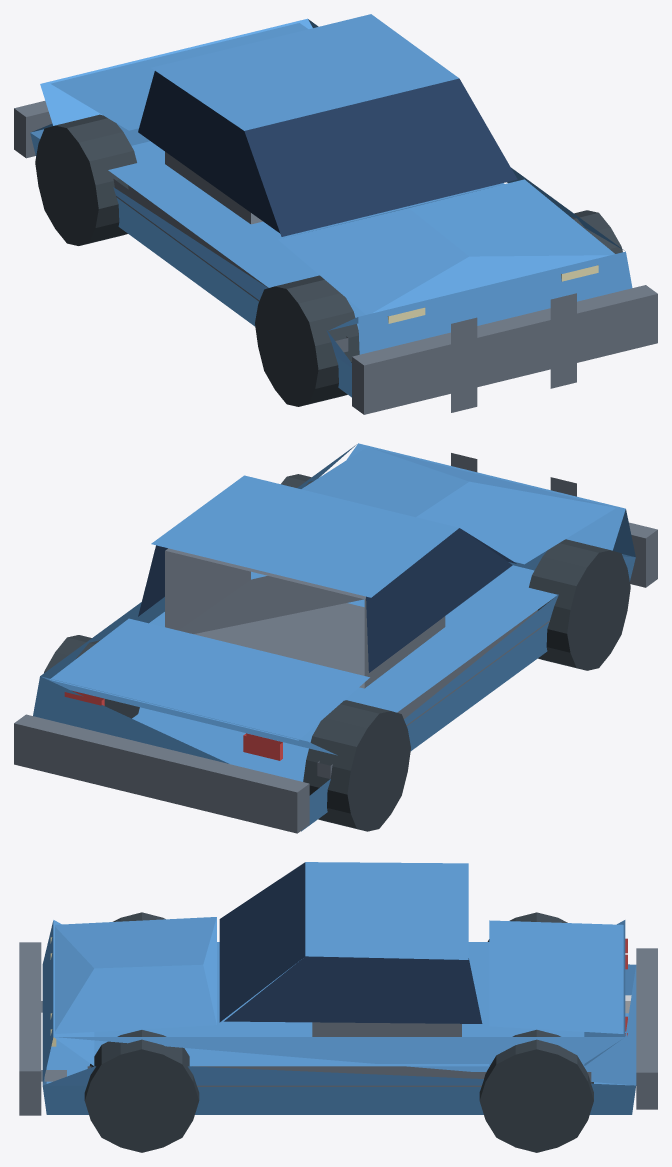
Rendered from demolition_derby.glb.
3 renders of one model, top to bottom at view 1: azimuth 30°, elevation 25°; view 2: azimuth 150°, elevation 25°; view 3: azimuth 270°, elevation 25°, orthographic. The views are drawn at different scales.
Parts seen in each view (by area): view 1: DERBY_Car_Body, DERBY_Windshield, DERBY_Hood, DERBY_Bumper_Front, DERBY_Roof, DERBY_Wheel_FL, DERBY_Wheel_RL, DERBY_Window_L, DERBY_Trunk, DERBY_SideBar_L, DERBY_Bumper_Rear, DERBY_RollCage (+1 smaller); view 2: DERBY_Car_Body, DERBY_Roof, DERBY_Trunk, DERBY_RollCage, DERBY_Bumper_Rear, DERBY_Hood, DERBY_Wheel_RL, DERBY_Wheel_FL, DERBY_Window_L, DERBY_Bumper_Front, DERBY_SideBar_L, DERBY_Wheel_RR (+2 smaller); view 3: DERBY_Car_Body, DERBY_Hood, DERBY_Roof, DERBY_Trunk, DERBY_Window_R, DERBY_Wheel_FR, DERBY_Wheel_RR, DERBY_Windshield, DERBY_Bumper_Front, DERBY_Bumper_Rear, DERBY_SideBar_R, DERBY_RollCage.
Boxes of the visible parts, x1,y1,x2,y2 form: DERBY_Car_Body: [30, 18, 632, 397]; DERBY_Windshield: [244, 78, 517, 236]; DERBY_Hood: [278, 179, 614, 314]; DERBY_Bumper_Front: [352, 285, 657, 414]; DERBY_Roof: [151, 14, 458, 130]; DERBY_Wheel_FL: [255, 275, 359, 406]; DERBY_Wheel_RL: [35, 114, 136, 245]; DERBY_Window_L: [138, 71, 280, 233]; DERBY_Trunk: [50, 23, 308, 130]; DERBY_SideBar_L: [113, 179, 348, 352]; DERBY_Bumper_Rear: [14, 101, 52, 158]; DERBY_RollCage: [165, 152, 262, 224]; DERBY_Car_Body: [33, 443, 635, 831]; DERBY_Roof: [151, 475, 458, 597]; DERBY_Trunk: [49, 618, 369, 740]; DERBY_RollCage: [165, 548, 445, 688]; DERBY_Bumper_Rear: [14, 714, 309, 833]; DERBY_Hood: [301, 447, 615, 564]; DERBY_Wheel_RL: [303, 700, 410, 831]; DERBY_Wheel_FL: [529, 539, 630, 670]; DERBY_Window_L: [366, 528, 512, 672]; DERBY_Bumper_Front: [451, 453, 657, 587]; DERBY_SideBar_L: [317, 610, 549, 778]; DERBY_Wheel_RR: [44, 635, 139, 718]; DERBY_Car_Body: [42, 920, 636, 1114]; DERBY_Hood: [55, 917, 216, 1033]; DERBY_Roof: [305, 862, 468, 959]; DERBY_Trunk: [489, 920, 623, 1033]; DERBY_Window_R: [224, 956, 482, 1023]; DERBY_Wheel_FR: [84, 1030, 199, 1152]; DERBY_Wheel_RR: [479, 1029, 593, 1152]; DERBY_Windshield: [219, 862, 305, 1022]; DERBY_Bumper_Front: [19, 942, 66, 1115]; DERBY_Bumper_Rear: [636, 948, 657, 1109]; DERBY_SideBar_R: [87, 1066, 591, 1086]; DERBY_RollCage: [312, 1022, 461, 1036].
Bounding box in the file's own units: 2.38 × 1.42 × 4.73.
